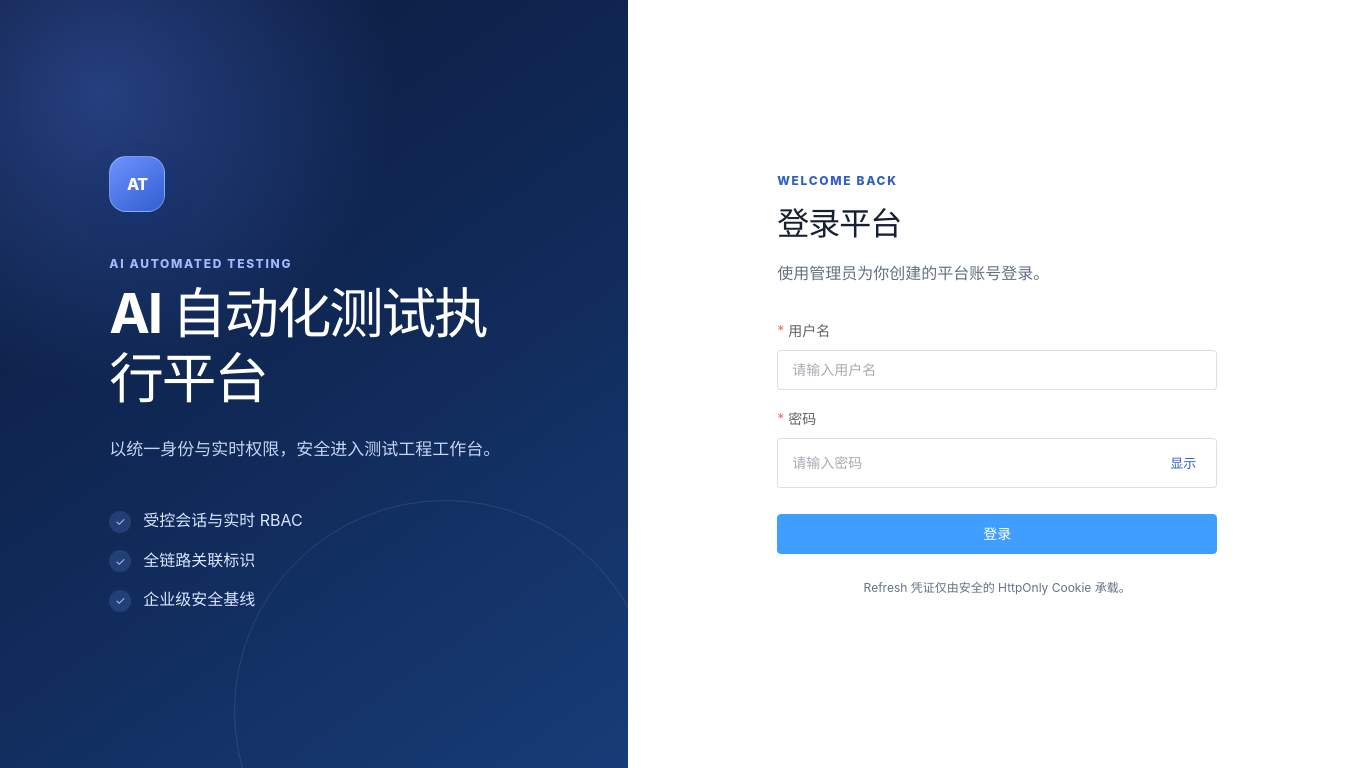
Test case: 登录页（组件测试，API 为 mock） › maps formal temporary-lock errors without exposing secrets
In the field labelled "用户名": (997, 370) x1=792 y1=351 x2=1202 y2=389, type "admin"
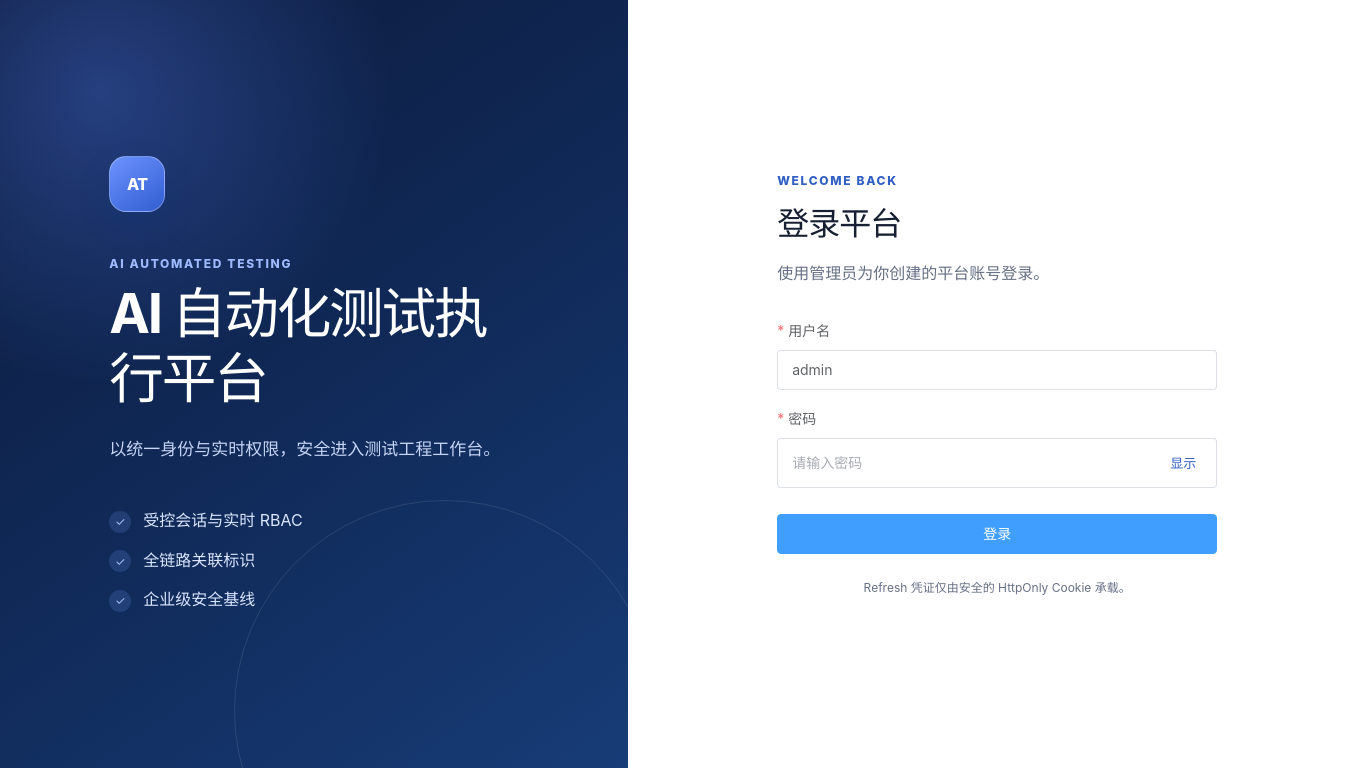
In the password field labelled "密码": (974, 463) x1=792 y1=444 x2=1156 y2=482, type "input-only"
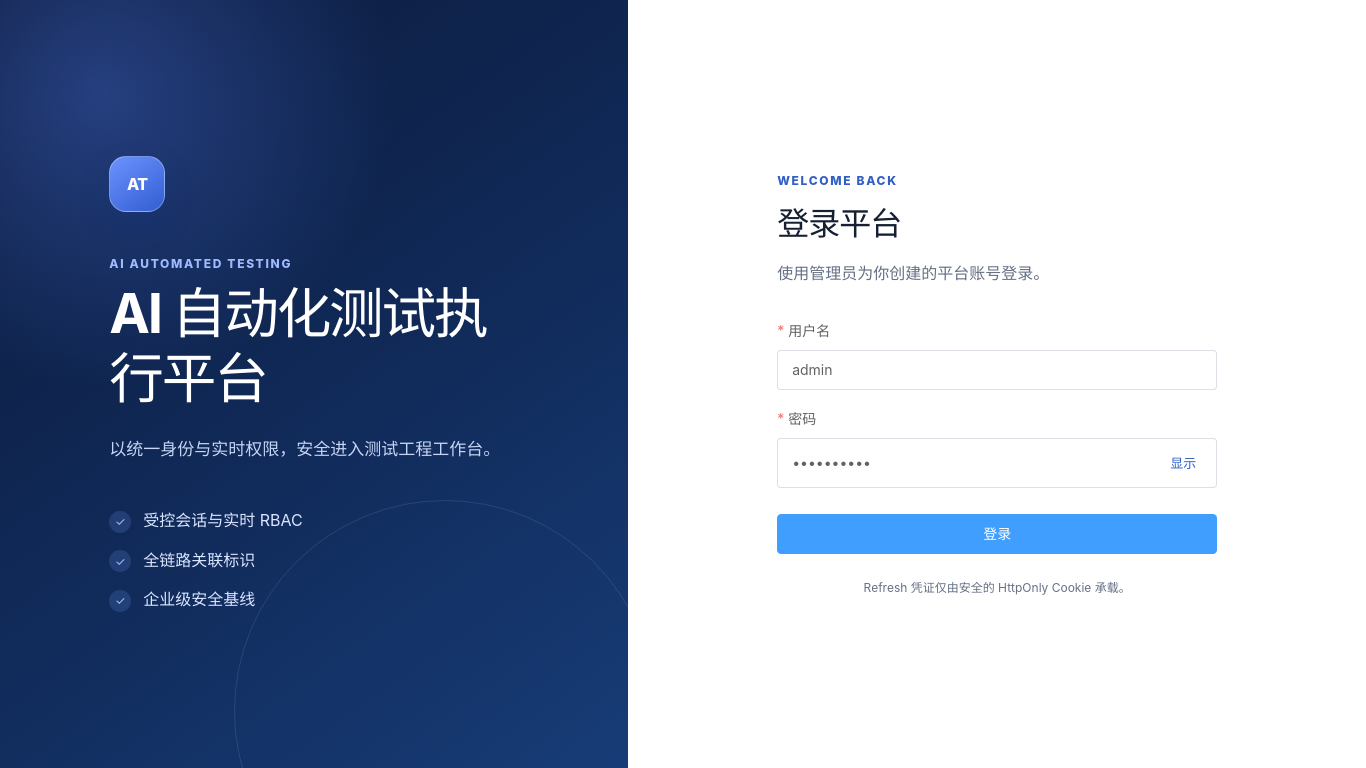
Click the button "登录": (997, 534) x1=777 y1=514 x2=1217 y2=554
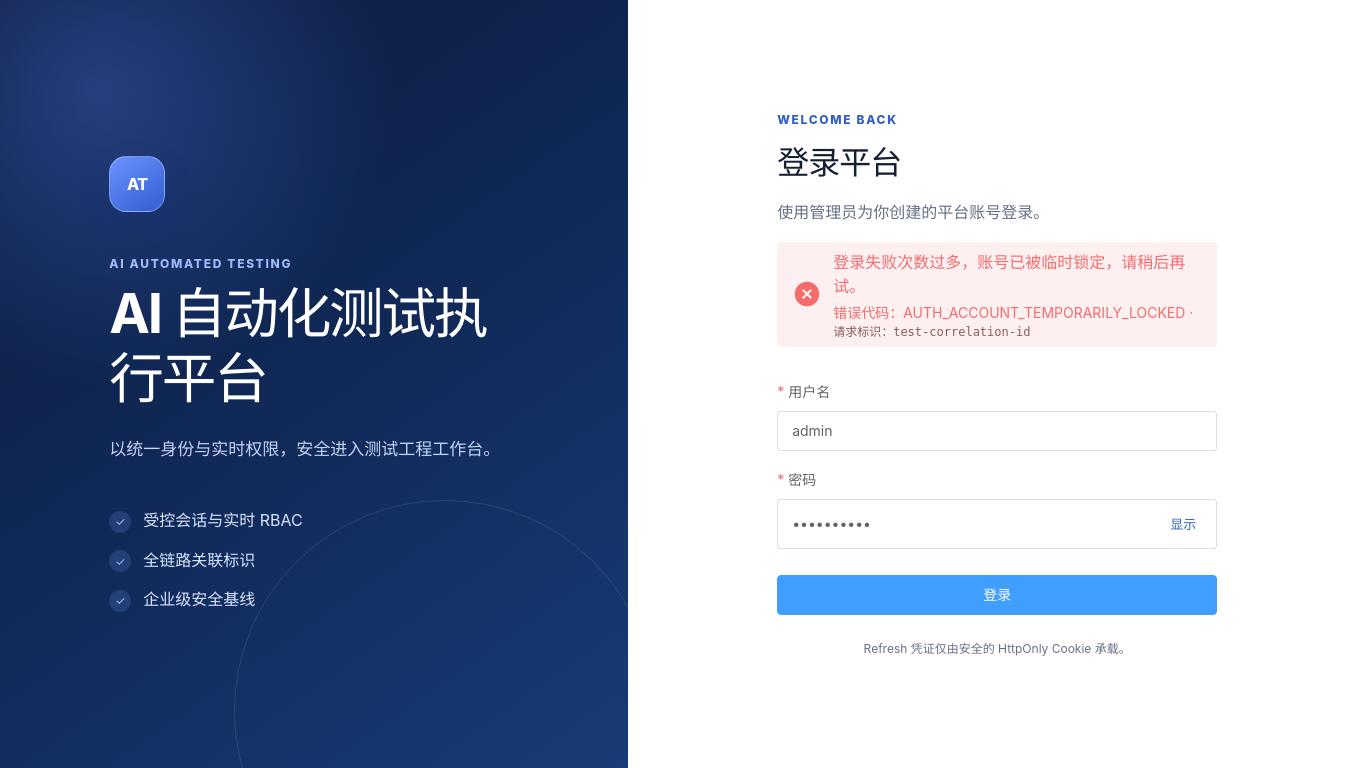
expect the text "登录失败次数过多，账号已被临时锁定，请稍后再试。" is shown: met, box x1=833 y1=250 x2=1201 y2=298
expect the text "请求标识：test-correlation-id" is shown: met, box x1=833 y1=325 x2=1030 y2=339
